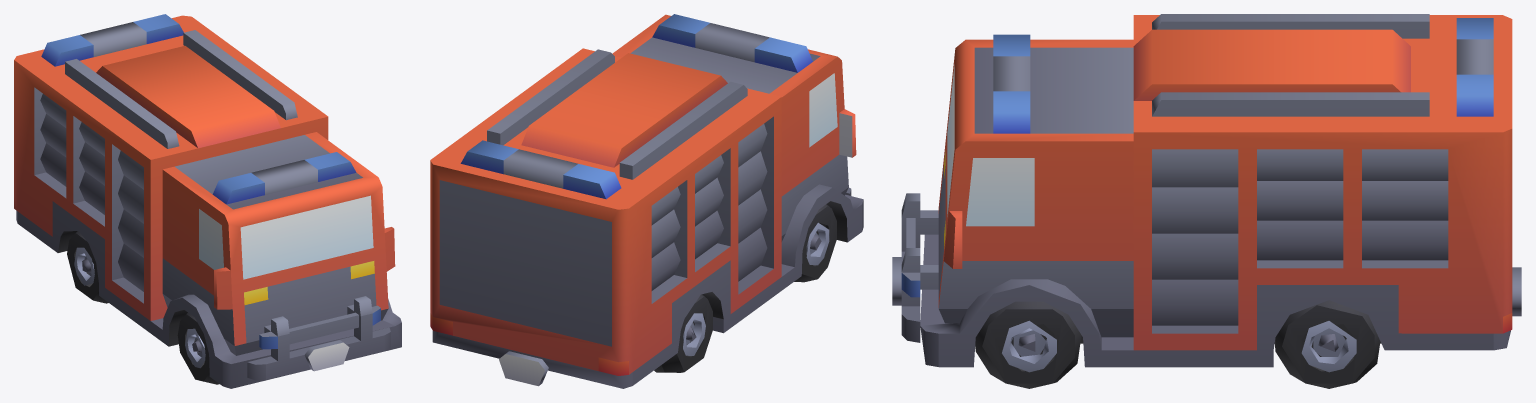
File: cc0-firetruck-lod1.glb
3 renders of one model, left to right at view 1: azimuth 30°, elevation 25°; view 2: azimuth 150°, elevation 25°; view 3: azimuth 270°, elevation 25°, orthographic. The views are drawn at different scales.
Parts seen in each view (by area): view 1: part_0; view 2: part_0; view 3: part_0.
Boxes of the visible parts, left/top/right/bottom form: part_0: left=14, top=14, right=401, bottom=388; part_0: left=430, top=14, right=863, bottom=388; part_0: left=892, top=14, right=1521, bottom=388.
Size of the model in its own units: 1.5 by 1.7 by 3.4.
Materials: 1 (1 with a texture image).
